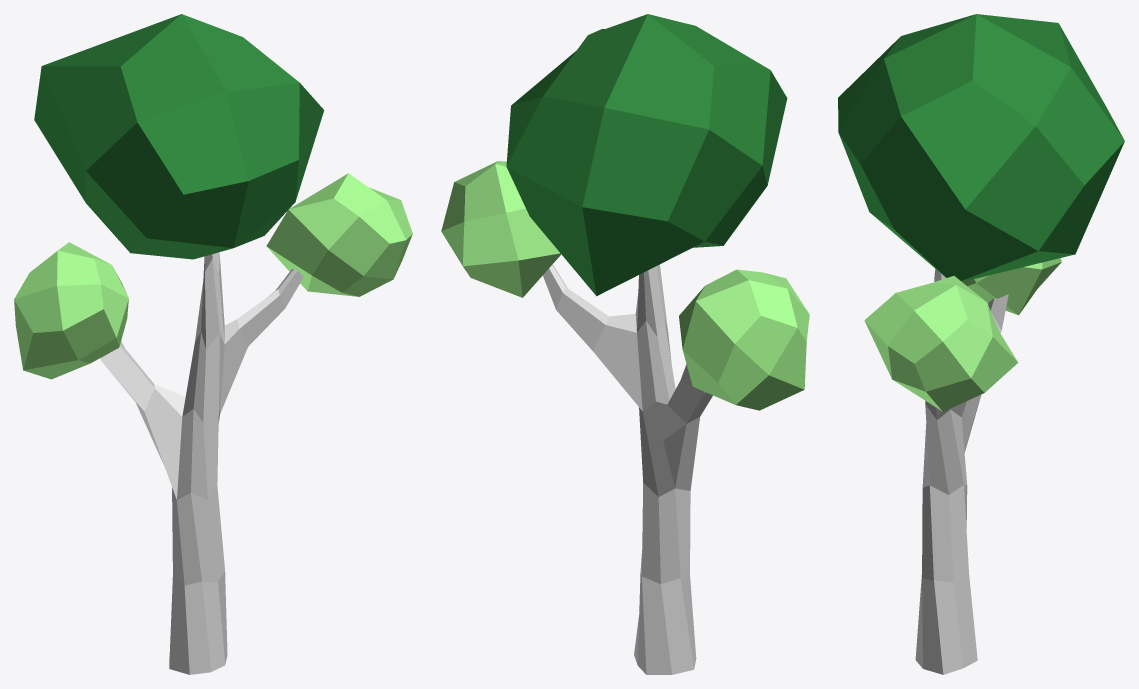
The model's file is tree3.fbx.
3 views of the same model, side by side, from view 1: azimuth 30°, elevation 25°; view 2: azimuth 150°, elevation 25°; view 3: azimuth 270°, elevation 25° (orthographic). The views are drawn at different scales.
Parts seen in each view (by area): view 1: tree3; view 2: tree3; view 3: tree3.
Boxes of the visible parts, x1,y1,x2,y2 form: tree3: (14, 14, 412, 674); tree3: (441, 14, 809, 674); tree3: (838, 14, 1124, 674).
Bounding box in the file's own units: 615 × 1041 × 419.
